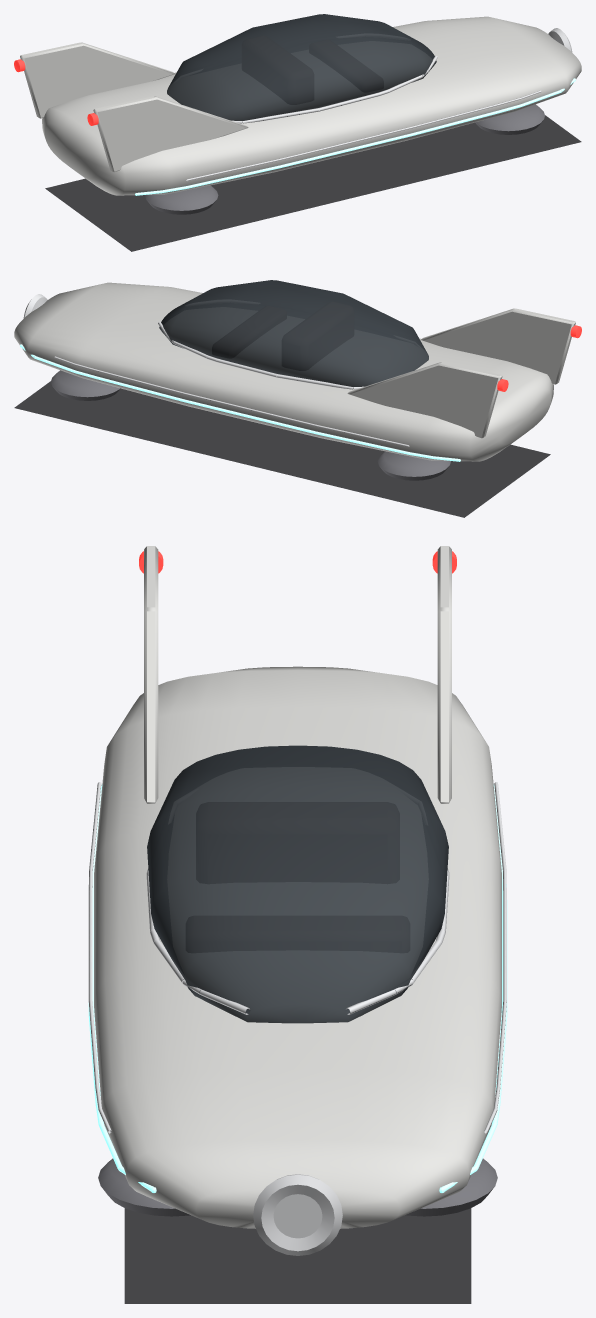
Rendered from car_retro_a.glb.
3 renders of one model, top to bottom at view 1: azimuth 30°, elevation 25°; view 2: azimuth 150°, elevation 25°; view 3: azimuth 270°, elevation 25°, orthographic. The views are drawn at different scales.
Parts seen in each view (by area): view 1: car_retro_a; view 2: car_retro_a; view 3: car_retro_a.
Part boxes in pixels (x1=…): car_retro_a: x1=14, y1=14, x2=581, y2=251; car_retro_a: x1=14, y1=280, x2=581, y2=517; car_retro_a: x1=88, y1=546, x2=507, y2=1303.
Bounding box in the file's own units: 5.78 × 1.56 × 2.05.
